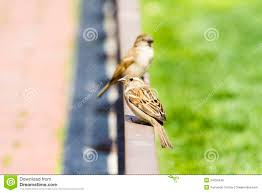home_sparrow: (114, 75, 187, 151), (90, 29, 161, 95)
